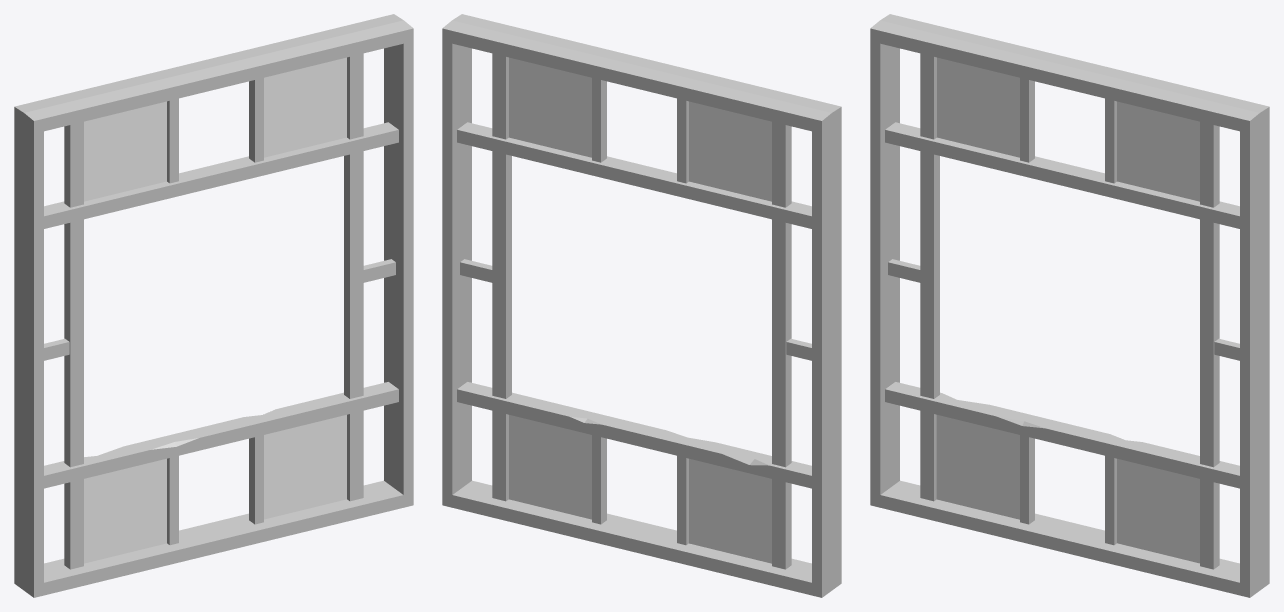
File: SM_Bld_Wall_Balcony_02.glb
3 views of the same model, side by side, from view 1: azimuth 30°, elevation 25°; view 2: azimuth 150°, elevation 25°; view 3: azimuth 330°, elevation 25° (orthographic).
Visible parts, largest first — view 1: SM_Bld_Wall_Balcony_02; view 2: SM_Bld_Wall_Balcony_02; view 3: SM_Bld_Wall_Balcony_02.
Boxes of the visible parts, bbox=[...] form: SM_Bld_Wall_Balcony_02: bbox=[14, 14, 413, 597]; SM_Bld_Wall_Balcony_02: bbox=[442, 14, 841, 597]; SM_Bld_Wall_Balcony_02: bbox=[870, 14, 1269, 597].
Size of the model in its own units: 2.5 by 3.01 by 0.225.
2 materials, 1 textured.
